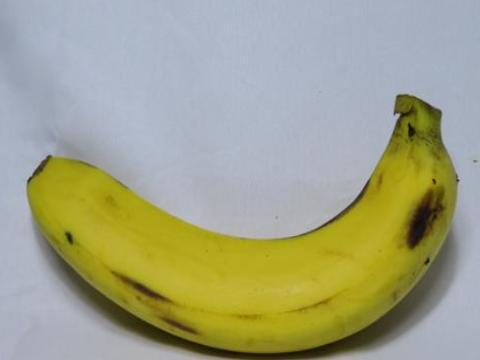freshripe: (17, 76, 456, 359)
